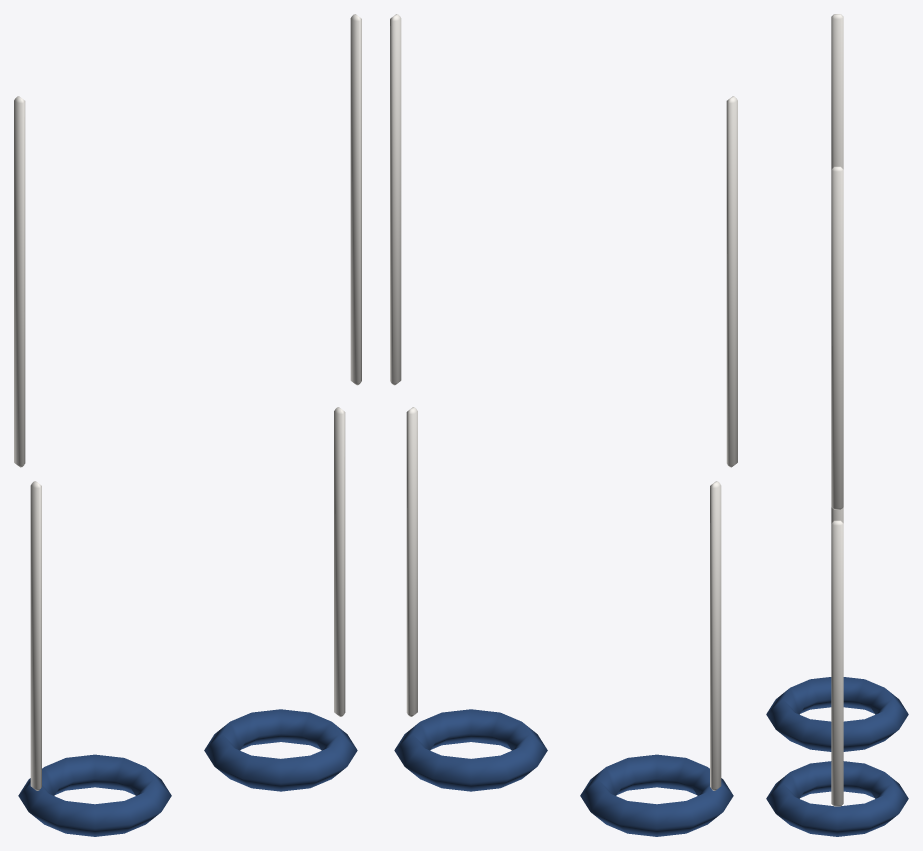
File: bottom_joggers.glb
The picture shows the model from 3 angles, left to right: view 1: azimuth 30°, elevation 25°; view 2: azimuth 150°, elevation 25°; view 3: azimuth 270°, elevation 25°; orthographic projection. The views are drawn at different scales.
Visible parts, largest first — view 1: ShinR, ShinL, LegR, LegL; view 2: ShinR, ShinL, LegR, LegL; view 3: ShinR, ShinL, LegR, LegL.
Part boxes in pixels (left/top/right/bottom): ShinR: left=204, top=407, right=357, bottom=791; ShinL: left=18, top=481, right=171, bottom=836; LegR: left=350, top=14, right=361, bottom=385; LegL: left=14, top=96, right=25, bottom=467; ShinR: left=394, top=407, right=547, bottom=791; ShinL: left=580, top=481, right=733, bottom=836; LegR: left=390, top=14, right=401, bottom=385; LegL: left=726, top=96, right=737, bottom=467; ShinR: left=766, top=520, right=908, bottom=836; ShinL: left=766, top=507, right=908, bottom=751; LegR: left=831, top=166, right=843, bottom=509; LegL: left=831, top=14, right=843, bottom=168.
Size of the model in its own units: 0.352 by 0.716 by 0.136.
